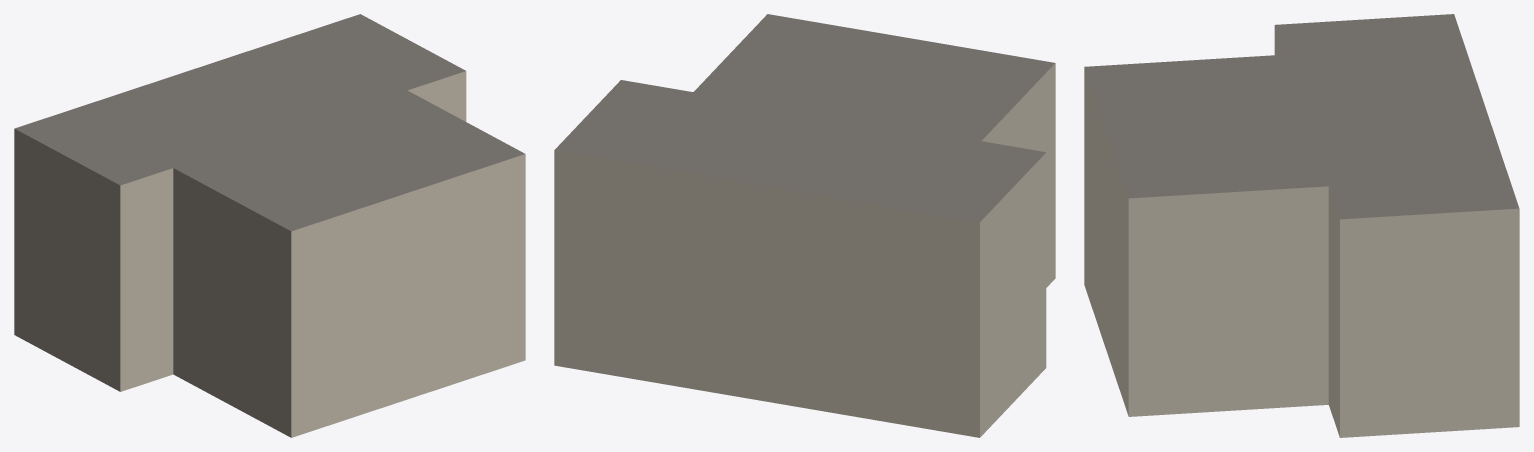
3 renders of one model, left to right at view 1: azimuth 30°, elevation 25°; view 2: azimuth 150°, elevation 25°; view 3: azimuth 270°, elevation 25°, orthographic. The views are drawn at different scales.
Visible parts, largest first — view 1: HP-w859488798; view 2: HP-w859488798; view 3: HP-w859488798.
Boxes of the visible parts, <box> form: HP-w859488798: <box>14,14,525,437</box>; HP-w859488798: <box>554,14,1055,437</box>; HP-w859488798: <box>1084,14,1519,437</box>.
Size of the model in its own units: 36.29 by 18 by 32.47.
